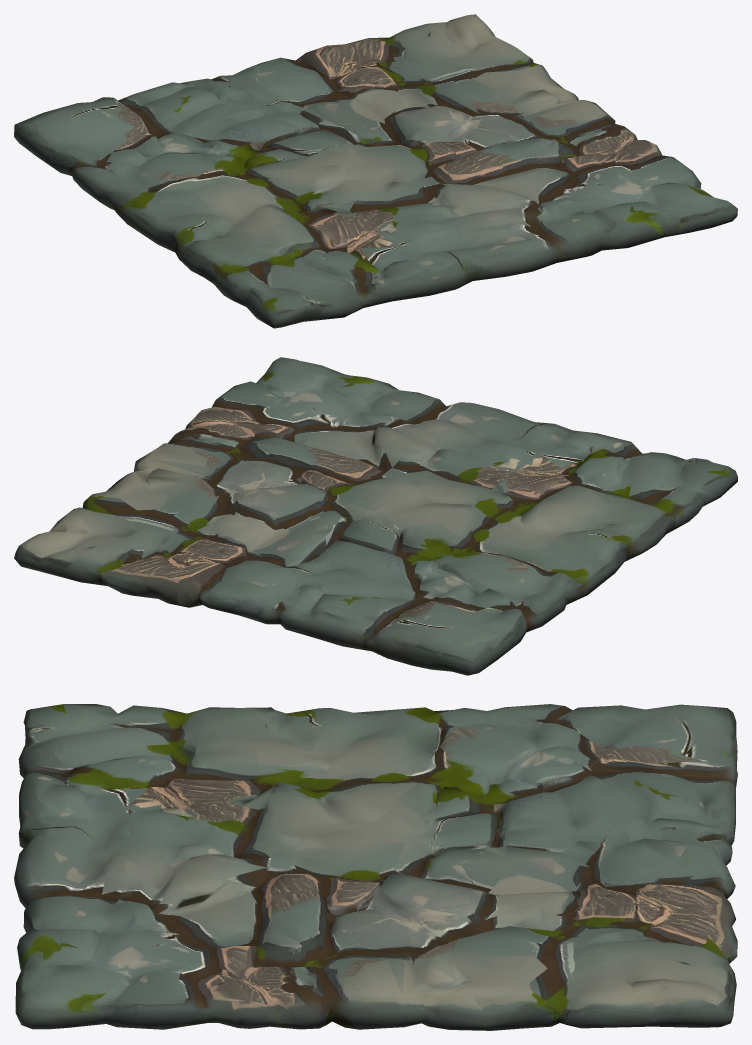
The model's file is slab.glb.
The picture shows the model from 3 angles, top to bottom: view 1: azimuth 30°, elevation 25°; view 2: azimuth 150°, elevation 25°; view 3: azimuth 270°, elevation 25°; orthographic projection. The views are drawn at different scales.
Visible parts, largest first — view 1: SLAB; view 2: SLAB; view 3: SLAB.
Boxes of the visible parts, left/top/right/bottom form: SLAB: left=14, top=14, right=737, bottom=328; SLAB: left=14, top=357, right=737, bottom=675; SLAB: left=14, top=704, right=737, bottom=1030.
Bounding box in the file's own units: 2.19 × 0.1423 × 2.2.
1 material, 1 textured.
